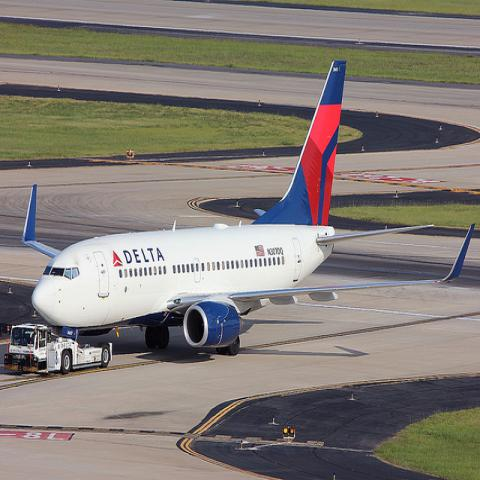truck: (3, 323, 113, 375)
